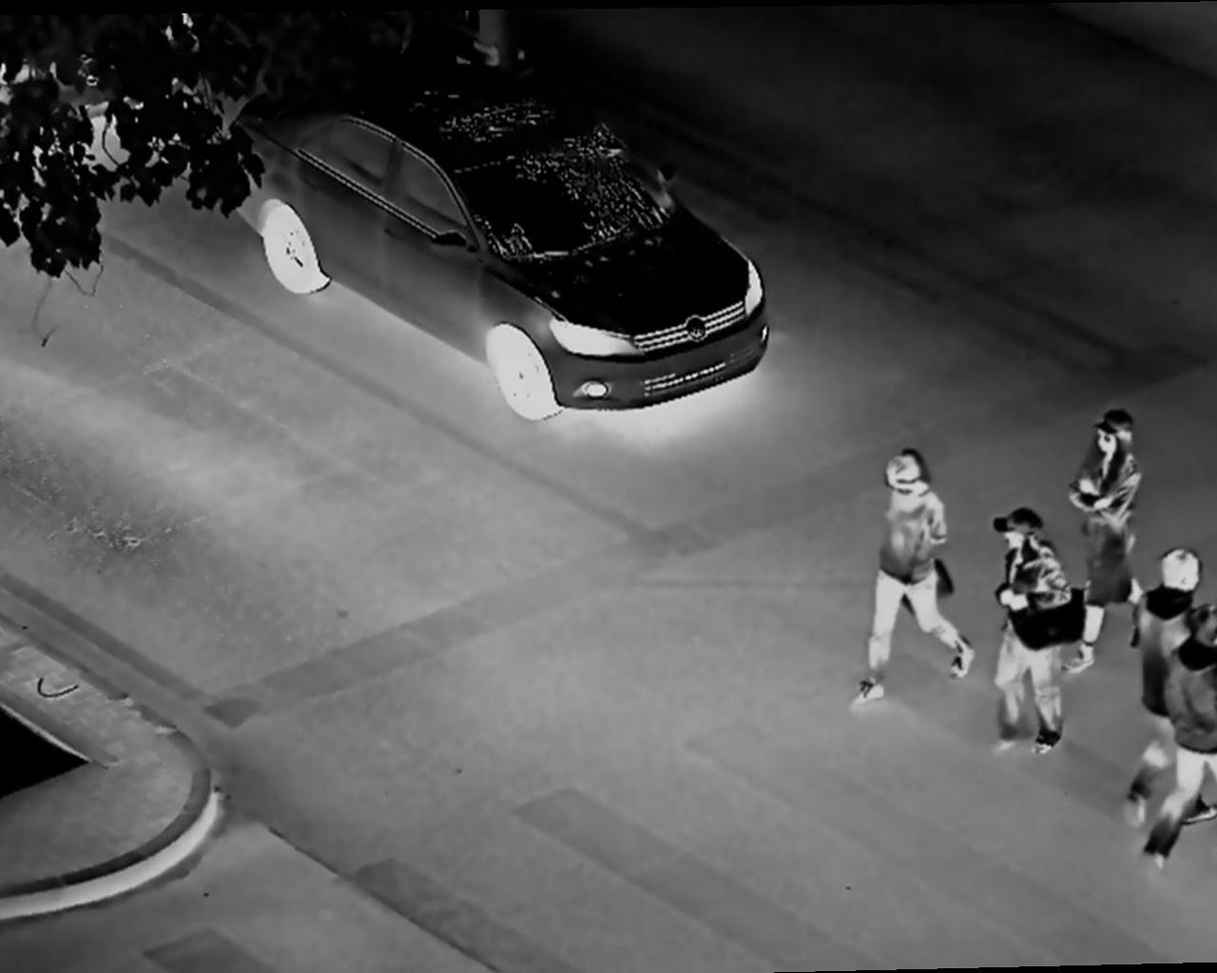person: (853, 443, 974, 705), (990, 507, 1080, 758), (1073, 397, 1146, 659), (1162, 609, 1217, 871), (1131, 543, 1185, 792)
